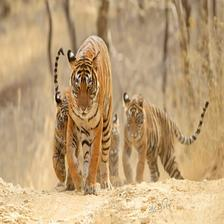tiger: (39, 37, 119, 200), (124, 91, 220, 188)
